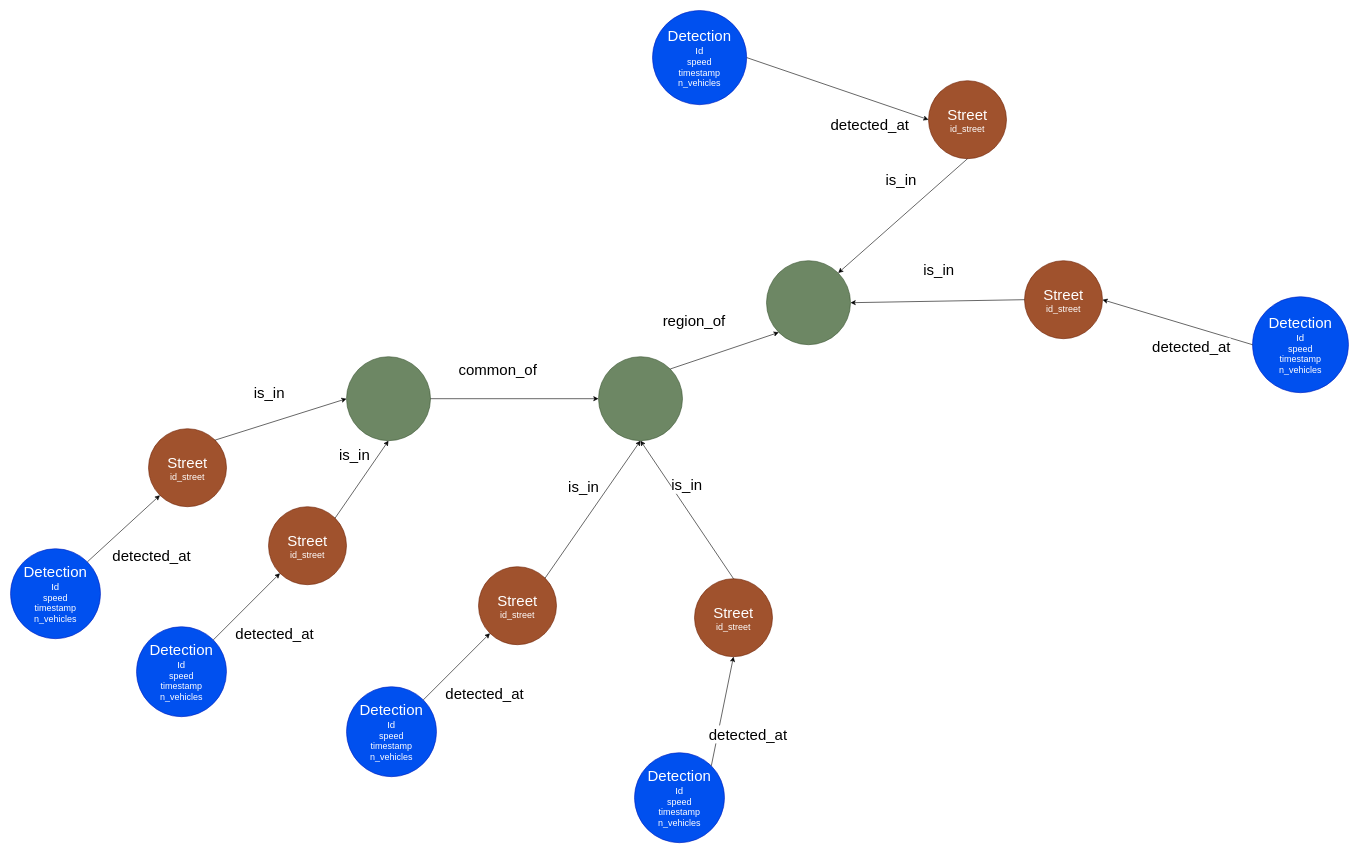
Some shapes in this 1359 by 853 pixel diagram are drawn without their labels. Each missing label, with the centre of its shape:
Anderlecht: [388,398]
Belgium: [808,302]
Bruxells: [640,398]
